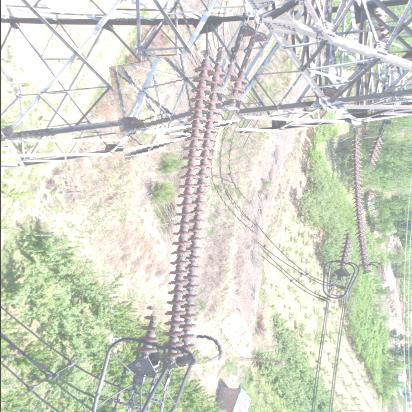insulator: (121, 52, 265, 368), (327, 131, 396, 274)
